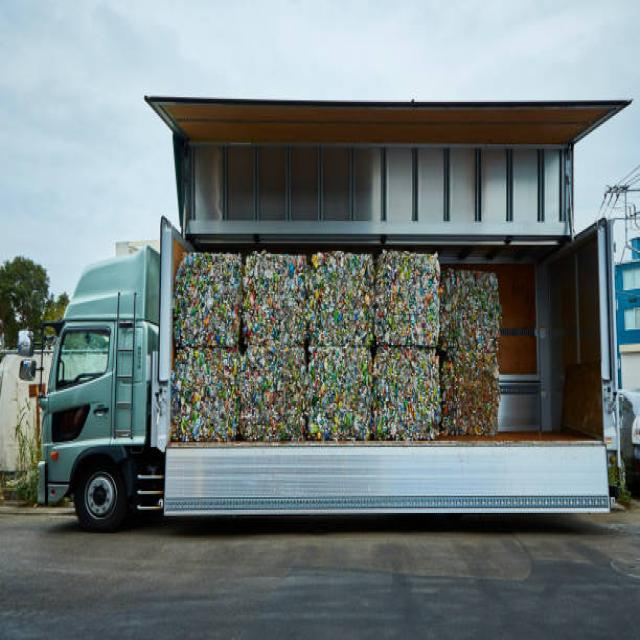plastic: (184, 256, 499, 434)
